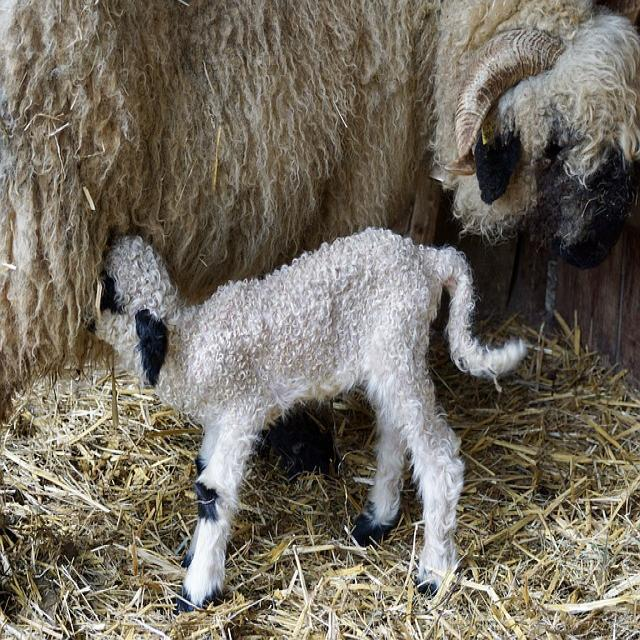goat: (94, 229, 529, 609)
